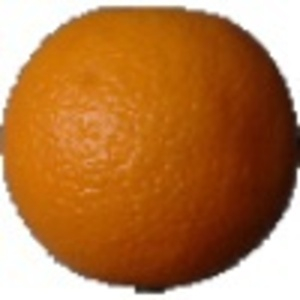laranja: (3, 1, 296, 295)
